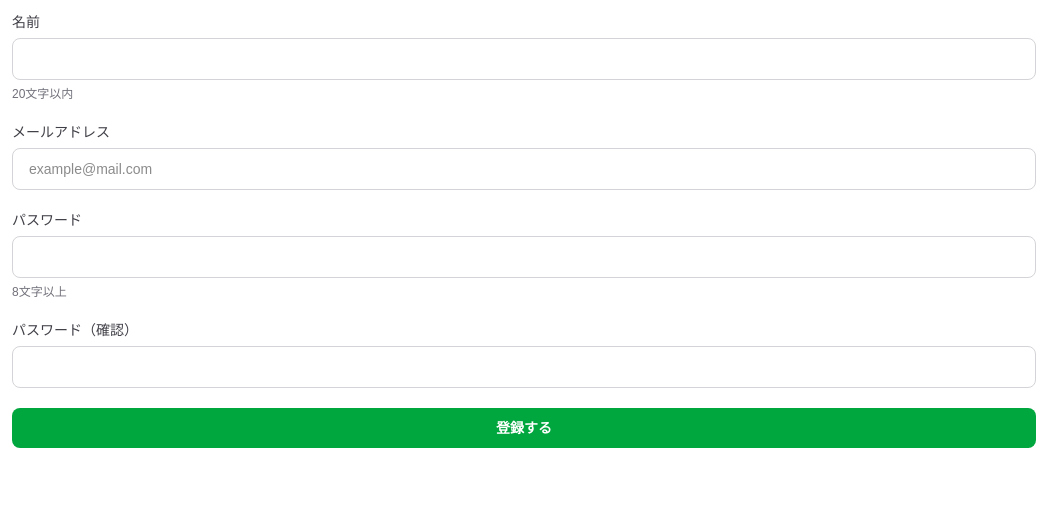
サーバーの 422 は、項目ごとに入力欄の下に出す（メールの重複はメール欄の下）
The width and height of the screenshot is (1048, 509).
Type "鈴木花子" into the field labelled "名前" at [524, 59], box [12,38,1036,80]
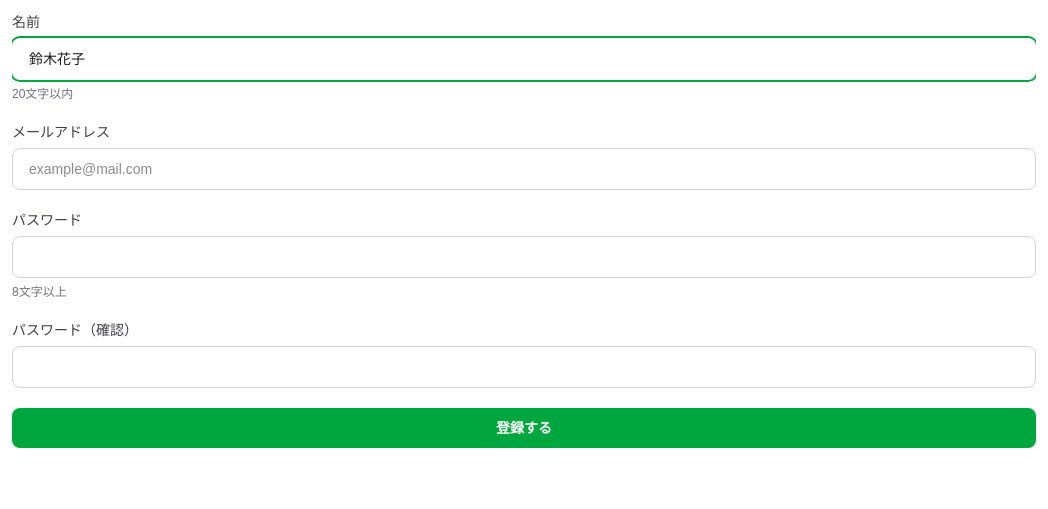
Type "hanako@example.com" into the field labelled "メールアドレス" at [524, 169], box [12,148,1036,190]
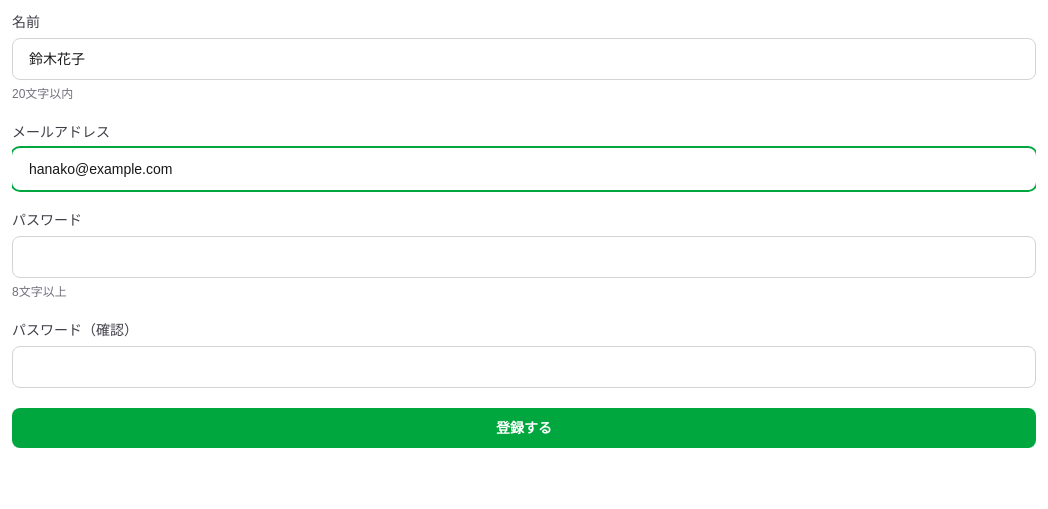
Type "password123" into the password field labelled "パスワード" at [524, 257], box [12,236,1036,278]
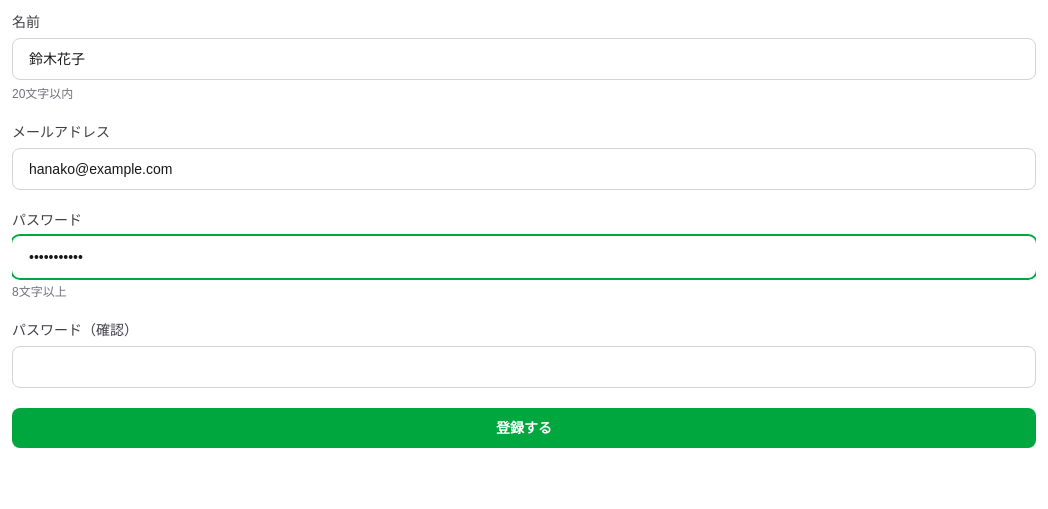
Type "password123" into the password field labelled "パスワード（確認）" at [524, 367], box [12,346,1036,388]
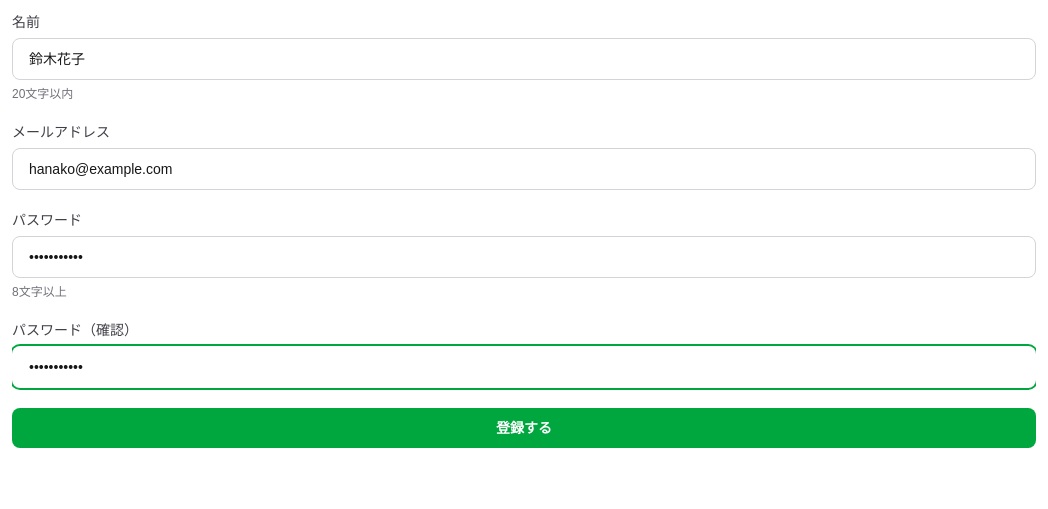
Click the button "登録する" at [524, 428], box [12,408,1036,448]
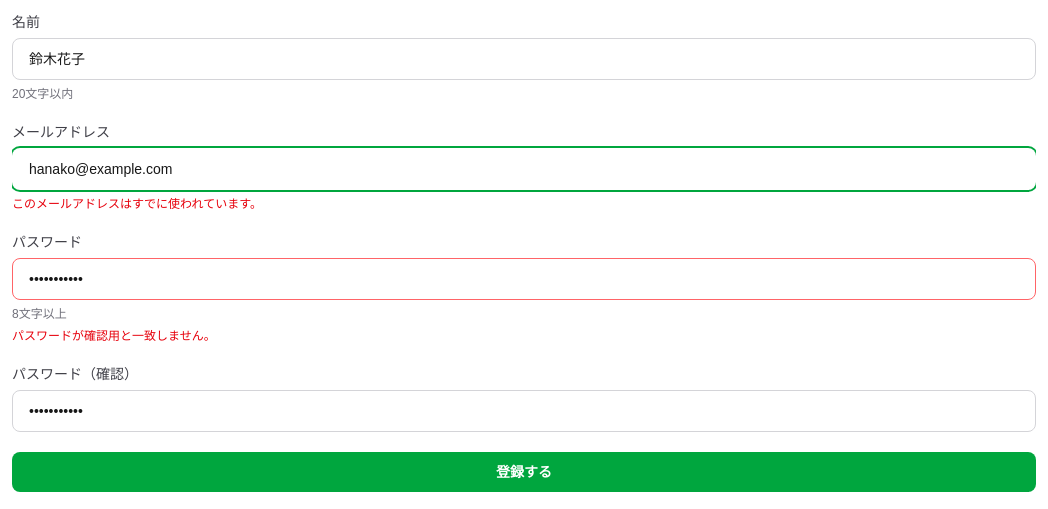
Check: the text "このメールアドレスはすでに使われています。" is shown, box [12,197,262,211]
